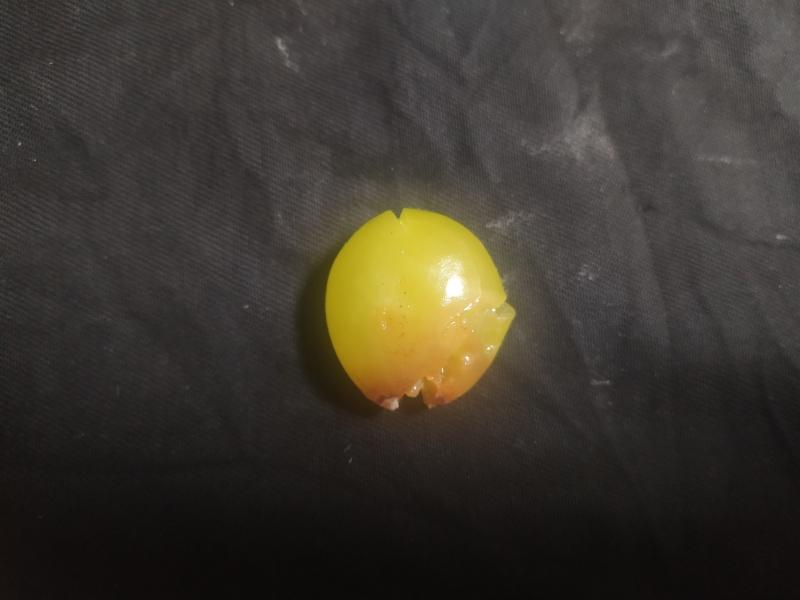Grape Overripe: (323, 204, 519, 414)
